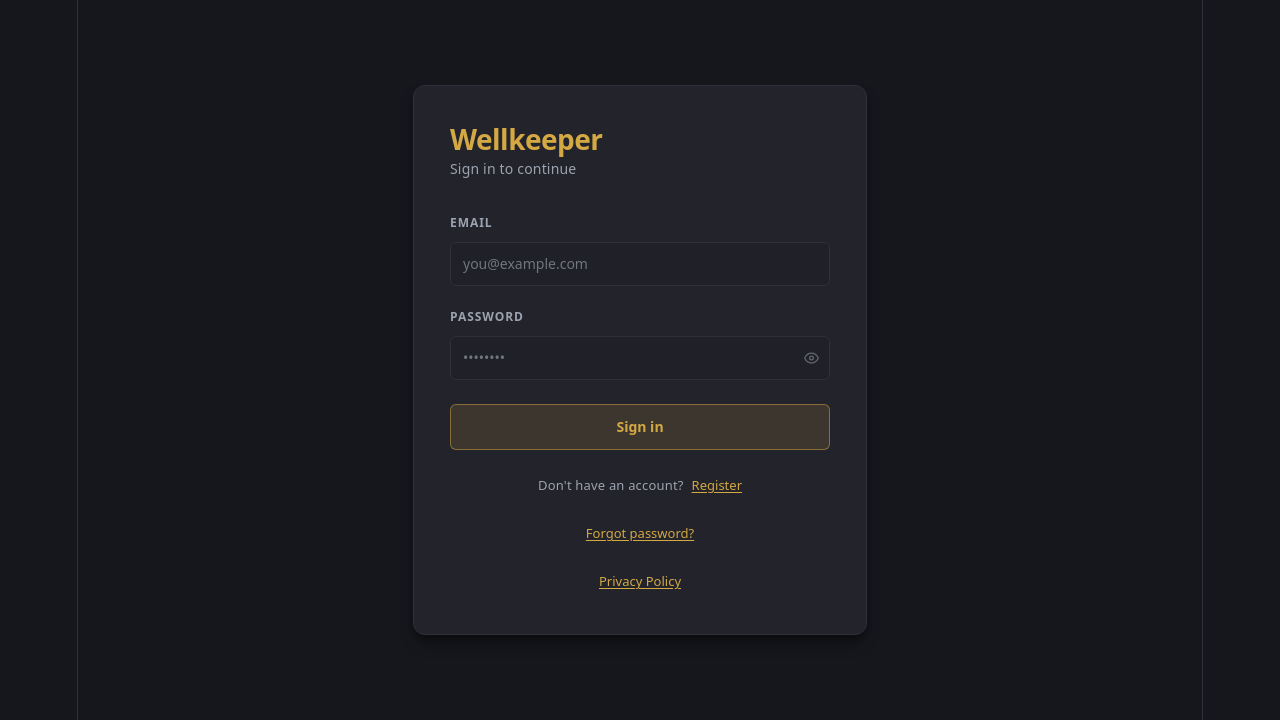
Test: LoginPage › shows an error on 401
The image size is (1280, 720).
Step 1. Type "bad@example.com" into the field labelled "Email" → {"x": 640, "y": 264}, box [450,242,830,286]
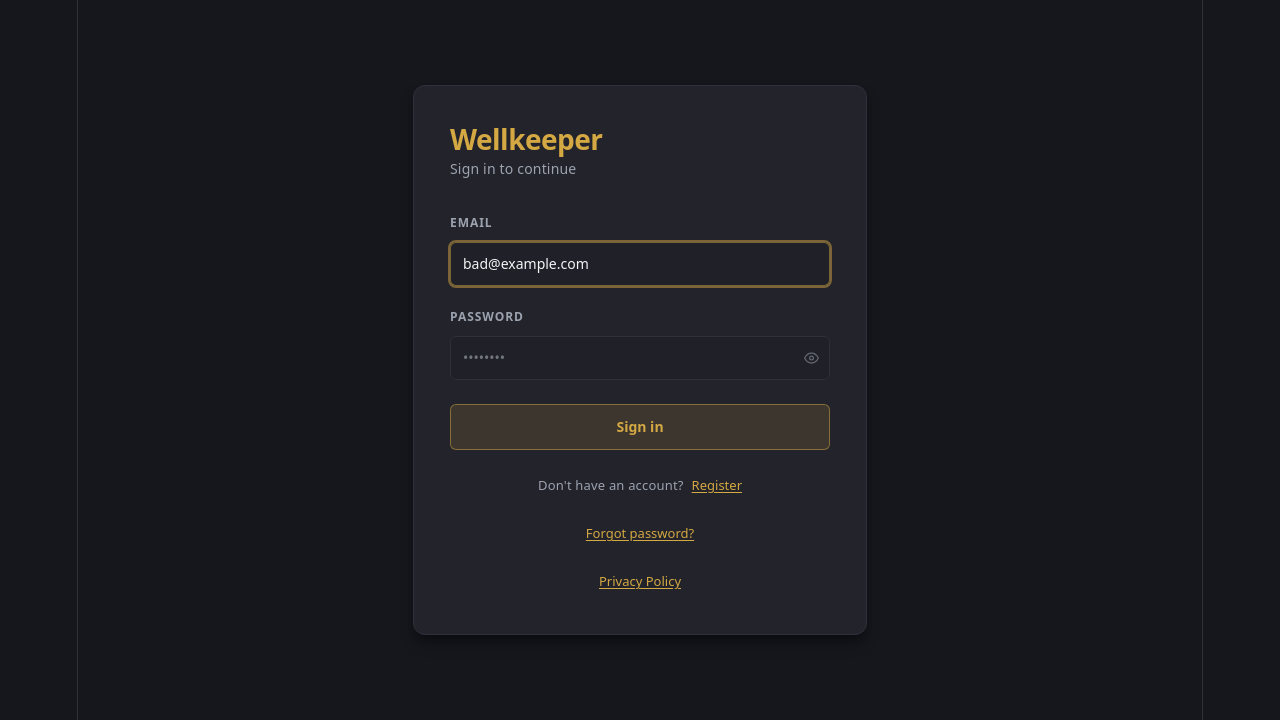
Step 2. Type "wrong" into the password field labelled "Password" → {"x": 640, "y": 358}, box [450,336,830,380]
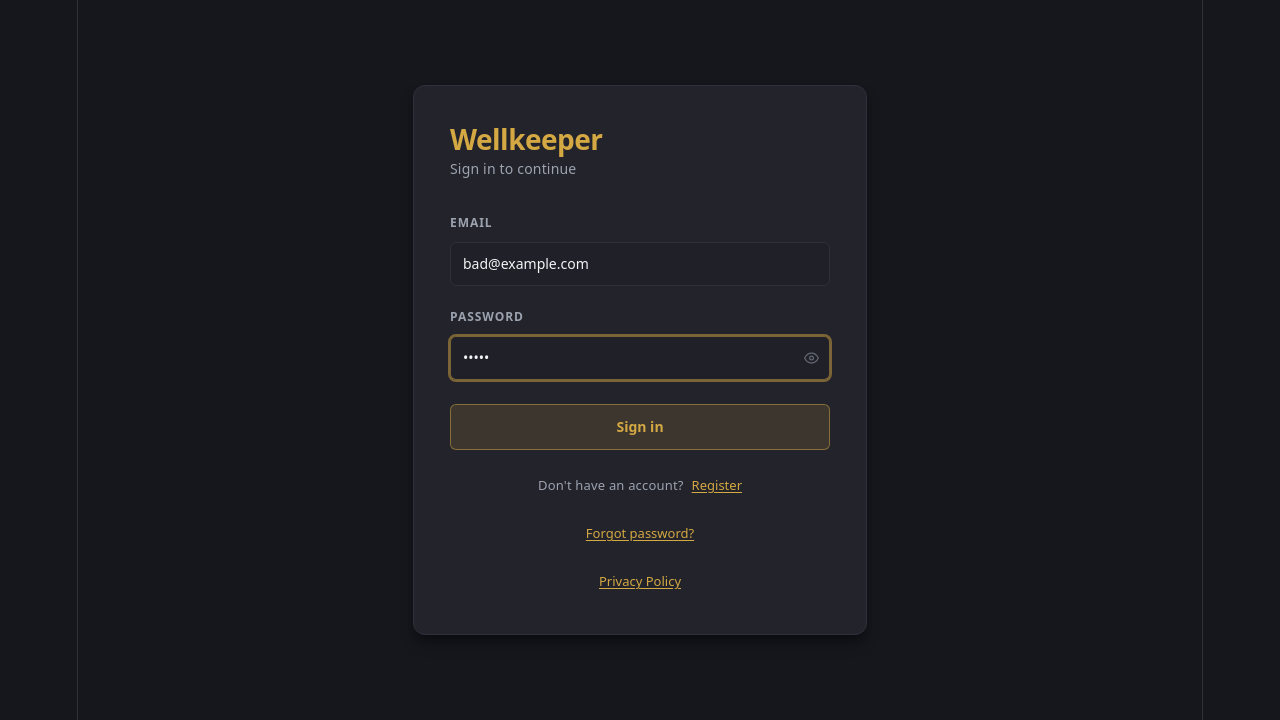
Step 3. Click the button "Sign in" → {"x": 640, "y": 427}, box [450,404,830,450]
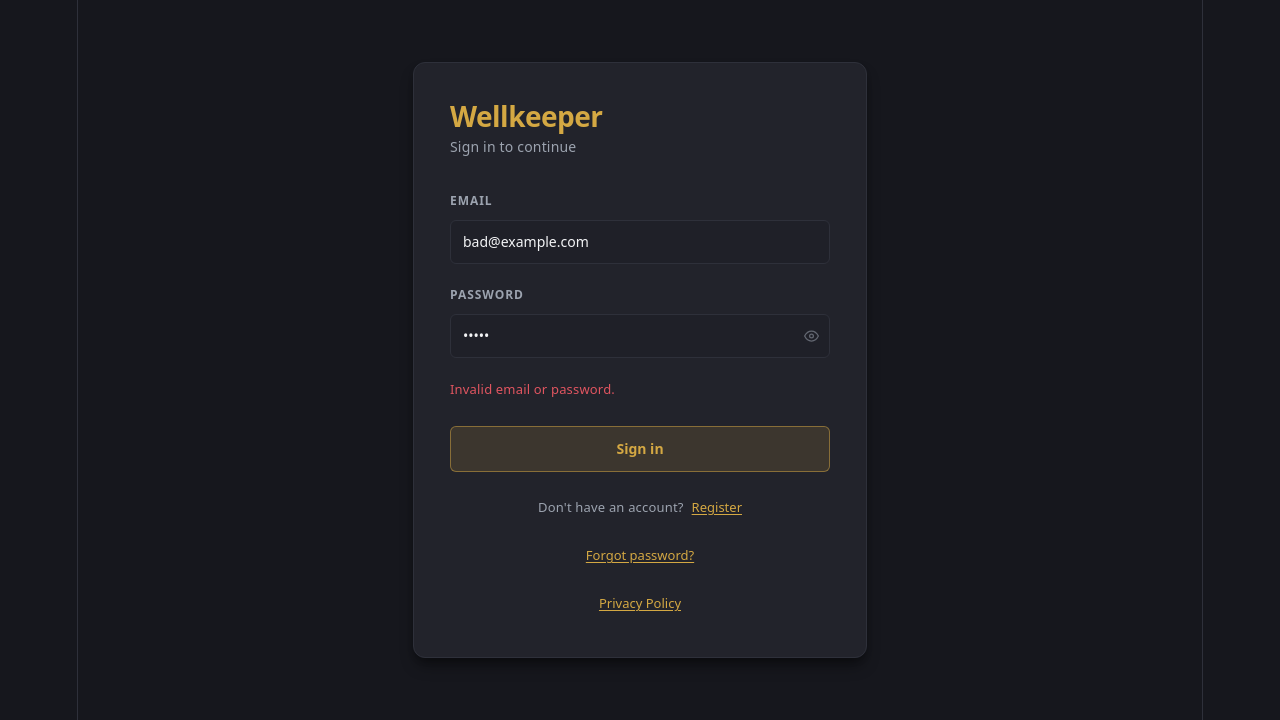
Result: the message shows "Invalid email or password" at [450,380,615,398]
